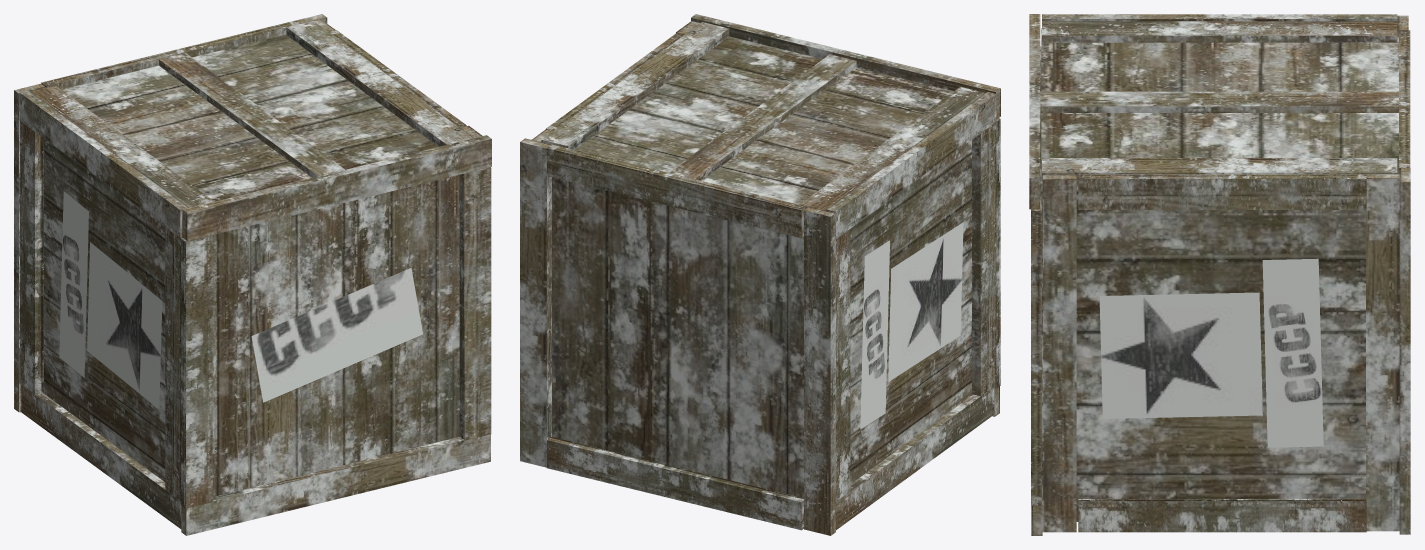
Rendered from prop_crate_dak3_russian.glb.
The picture shows the model from 3 angles, left to right: view 1: azimuth 30°, elevation 25°; view 2: azimuth 150°, elevation 25°; view 3: azimuth 270°, elevation 25°; orthographic projection. The views are drawn at different scales.
Bounding box in the file's own units: 36.17 × 36.17 × 34.97.
2 materials, 2 textured.
